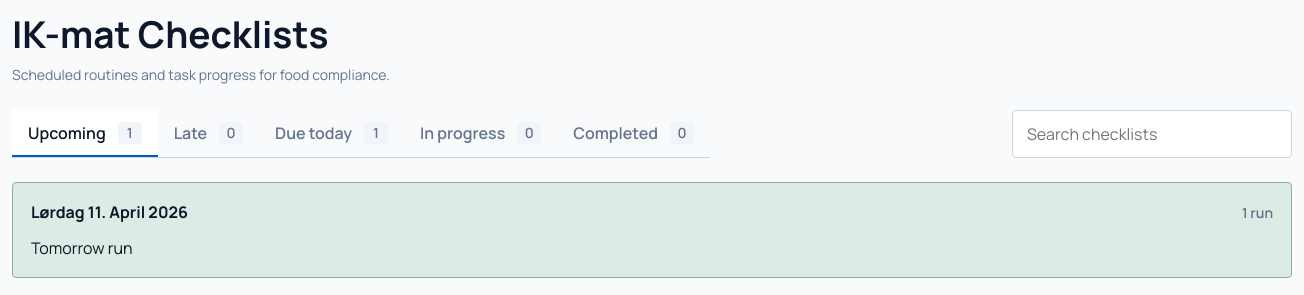
Test: IKMatChecklistsPage › shows due-today runs even when a newer run exists in the same definition group
Click the button with class "triage-tab" showing "Due today 1".
click(332, 133)  # box [259, 109, 404, 157]
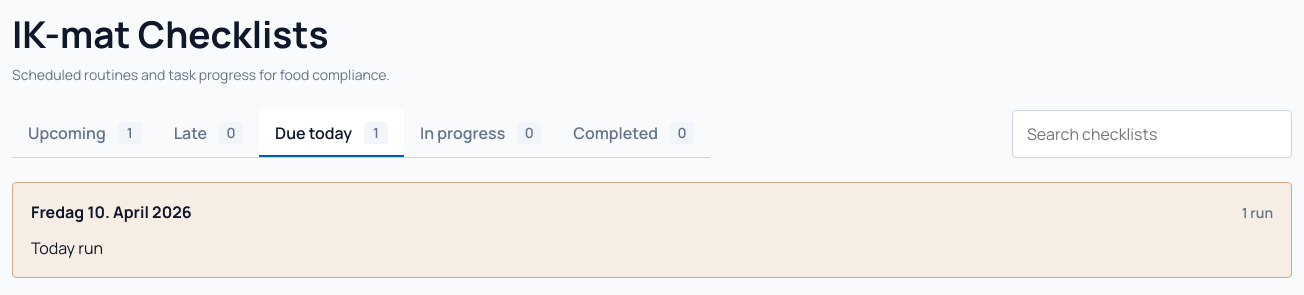
Expected: the number of elements with class "run-card-stub" is 1, [31, 237, 103, 259]
Expected: the text "Today run" is shown, [31, 237, 103, 259]
Expected: the text "Tomorrow run" is gone
